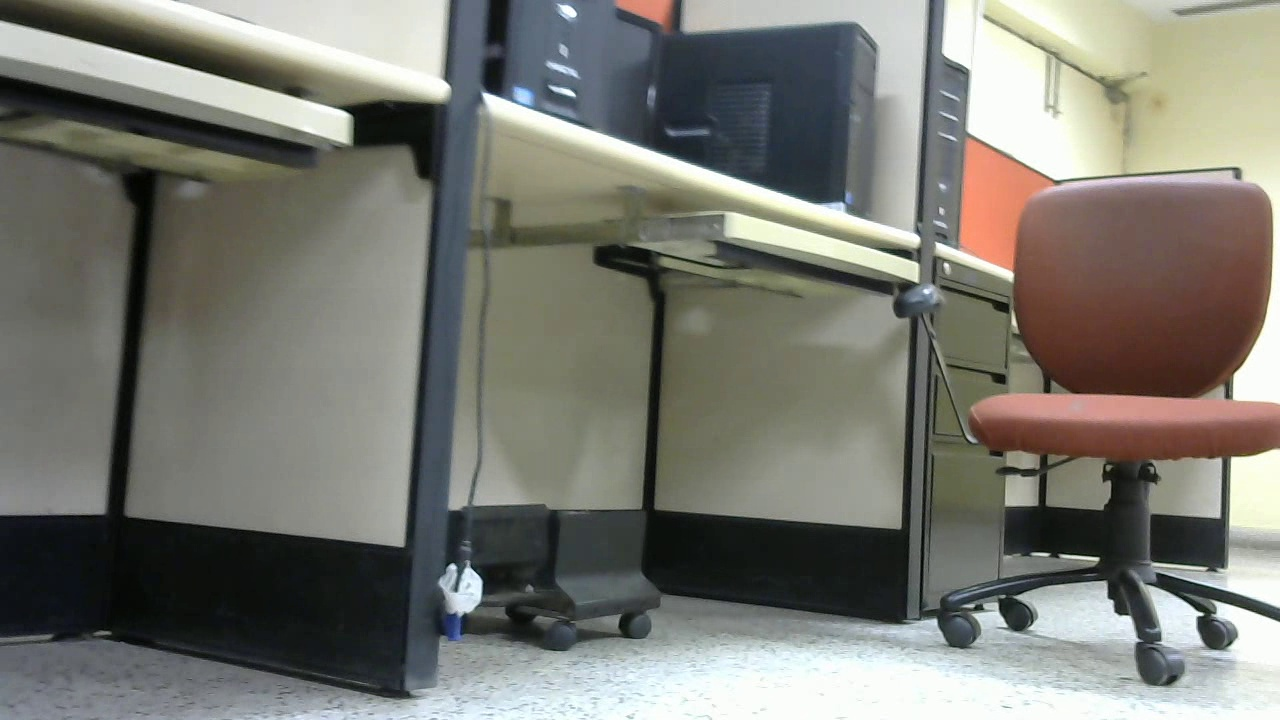chair: (421, 2, 973, 720), (1, 277, 127, 521)
